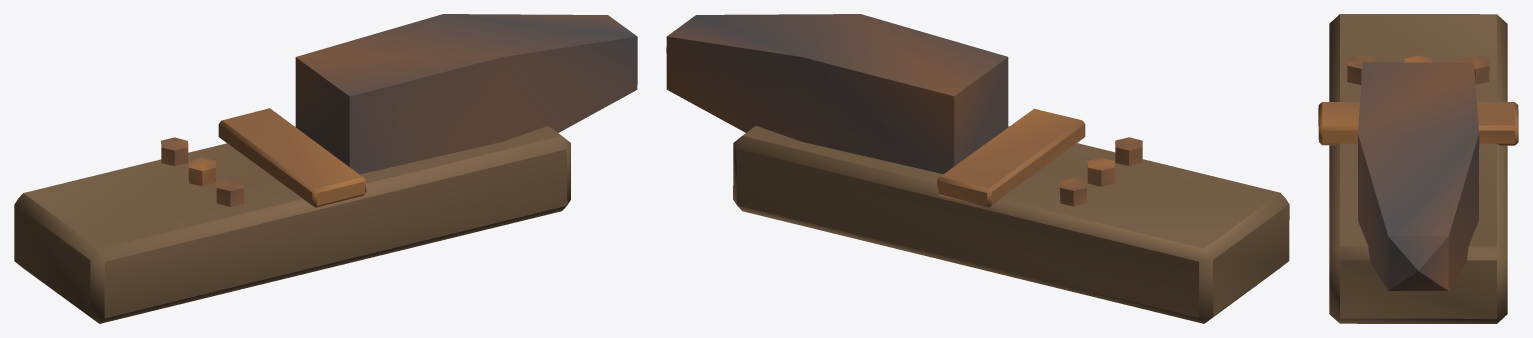
The model's file is iron-head.glb.
3 renders of one model, left to right at view 1: azimuth 30°, elevation 25°; view 2: azimuth 150°, elevation 25°; view 3: azimuth 270°, elevation 25°, orthographic. The views are drawn at different scales.
Visible parts, largest first — view 1: iron-head; view 2: iron-head; view 3: iron-head.
Boxes of the visible parts, <box> form: iron-head: <box>14,14,637,323</box>; iron-head: <box>666,14,1289,323</box>; iron-head: <box>1318,14,1518,323</box>.
Bounding box in the file's own units: 0.195 × 0.051 × 0.0562.
